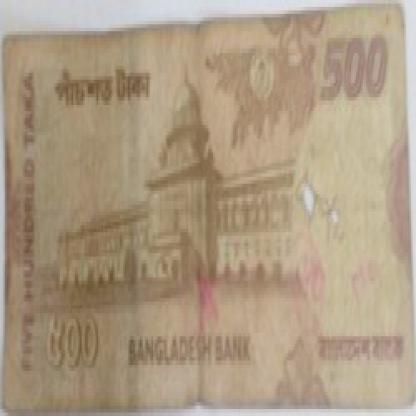500 taka: (42, 63, 176, 142)
currency: (5, 14, 414, 395)
